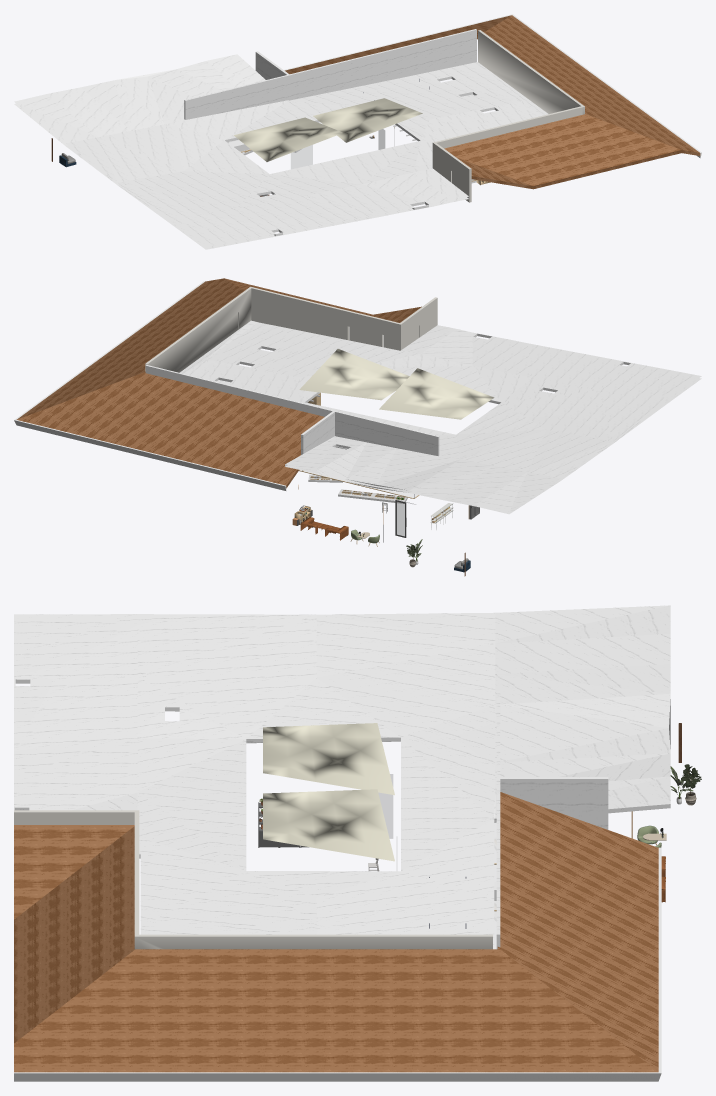
File: registration_01.glb
3 views of the same model, one above another, from view 1: azimuth 30°, elevation 25°; view 2: azimuth 150°, elevation 25°; view 3: azimuth 270°, elevation 25° (orthographic). The views are drawn at different scales.
Parts seen in each view (by area): view 1: main_ceiling, roof, top_part, top_part.001, shadesail_01, roof_edge, ceiling_part; view 2: main_ceiling, roof, top_part.001, shadesail_01, top_part, roof_edge, ceiling_part, listening_lounge; view 3: main_ceiling, roof, shadesail_01, top_part.001, roof_edge, ceiling_part, top_part.
Boxes of the visible parts, x1,y1,x2,y2 form: main_ceiling: (14, 54, 548, 249); roof: (285, 15, 700, 189); top_part: (184, 29, 476, 119); top_part.001: (432, 30, 584, 202); shadesail_01: (234, 98, 422, 161); roof_edge: (284, 14, 701, 158); ceiling_part: (255, 51, 288, 79); main_ceiling: (179, 320, 701, 514); roof: (16, 278, 421, 488); top_part.001: (145, 286, 437, 372); shadesail_01: (299, 349, 494, 419); top_part: (145, 365, 439, 455); roof_edge: (14, 281, 286, 490); ceiling_part: (301, 411, 334, 454); listening_lounge: (292, 505, 348, 540); main_ceiling: (14, 605, 670, 949); roof: (14, 792, 658, 1072); shadesail_01: (263, 723, 394, 861); top_part.001: (14, 810, 492, 949); roof_edge: (14, 847, 661, 1081); ceiling_part: (500, 777, 608, 829); top_part: (496, 691, 500, 949).
Bounding box in the file's own units: 1603 × 250 × 1126.
184 materials, 66 textured.
